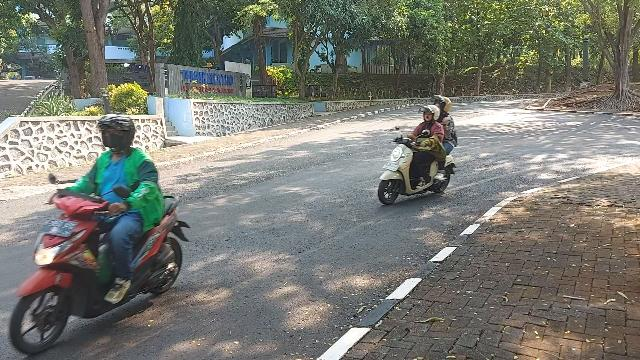helm: (97, 116, 136, 151), (432, 96, 452, 114), (420, 106, 441, 122)
motor: (11, 174, 189, 356), (379, 127, 457, 206)
